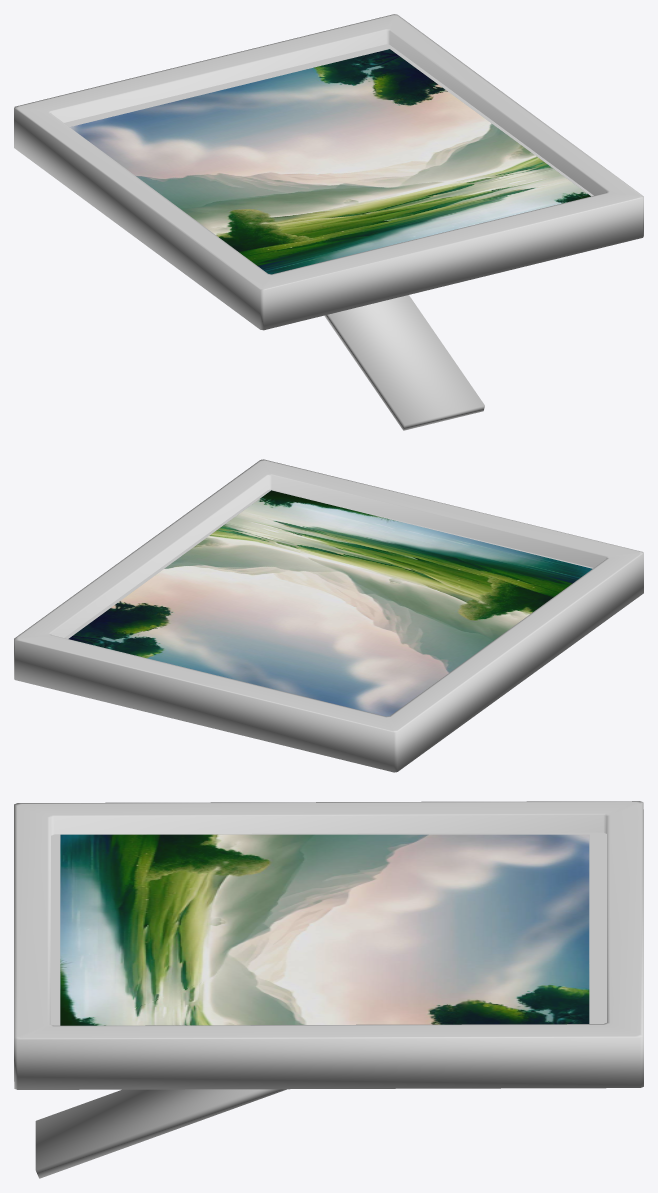
File: PhotoFrameV1.fbx
The picture shows the model from 3 angles, top to bottom: view 1: azimuth 30°, elevation 25°; view 2: azimuth 150°, elevation 25°; view 3: azimuth 270°, elevation 25°; orthographic projection. The views are drawn at different scales.
Parts seen in each view (by area): view 1: PhotoFrameV1; view 2: PhotoFrameV1; view 3: PhotoFrameV1.
Boxes of the visible parts, x1,y1,x2,y2 form: PhotoFrameV1: (14, 14, 643, 430); PhotoFrameV1: (14, 459, 643, 772); PhotoFrameV1: (14, 801, 643, 1178).
Size of the model in its own units: 17.78 by 8.23 by 20.01.
